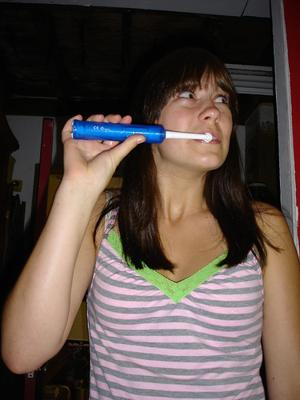person: (2, 46, 300, 400)
